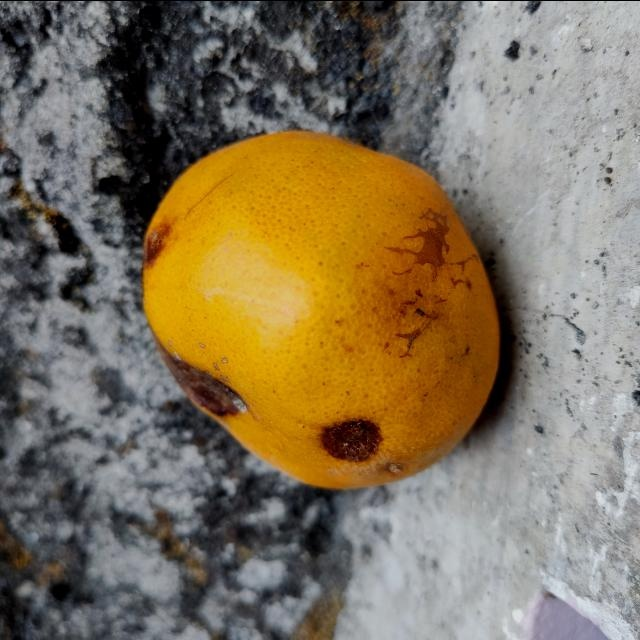agrume: (141, 126, 501, 490)
